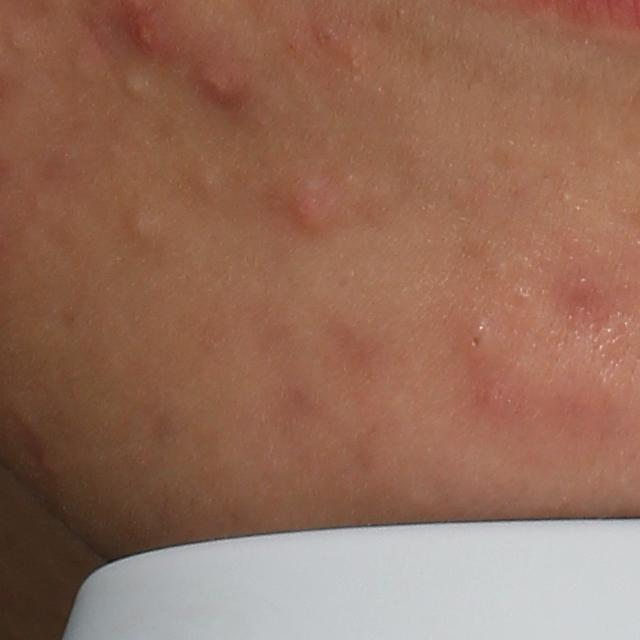comedo: (194, 158, 231, 209), (130, 205, 162, 245), (121, 70, 153, 101), (460, 323, 486, 360)
papule: (270, 164, 348, 243), (187, 39, 262, 113)
